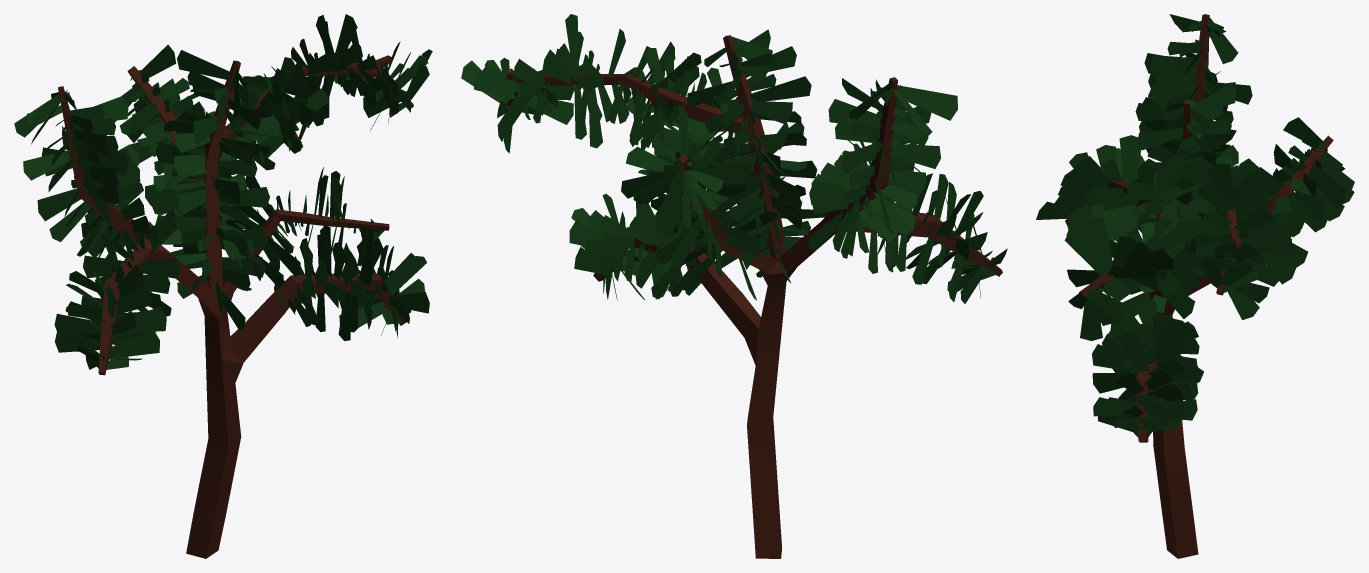
Rendered from Arbol1.fbx.
The picture shows the model from 3 angles, left to right: view 1: azimuth 30°, elevation 25°; view 2: azimuth 150°, elevation 25°; view 3: azimuth 270°, elevation 25°; orthographic projection. The views are drawn at different scales.
Parts seen in each view (by area): view 1: Arbol 1, Arbol 1|Hoja1|Dupli|317, Arbol 1|Hoja1|Dupli|11, Arbol 1|Hoja1|Dupli|300, Arbol 1|Hoja1|Dupli|397, Arbol 1|Hoja1|Dupli|448, Arbol 1|Hoja1|Dupli|292, Arbol 1|Hoja1|Dupli|484, Arbol 1|Hoja1|Dupli|254, Arbol 1|Hoja1|Dupli|396, Arbol 1|Hoja1|Dupli|499, Arbol 1|Hoja1|Dupli|192 (+13 smaller); view 2: Arbol 1, Arbol 1|Hoja1|Dupli|483, Arbol 1|Hoja1|Dupli|995, Arbol 1|Hoja1|Dupli|443, Arbol 1|Hoja1|Dupli|462, Arbol 1|Hoja1|Dupli|996, Arbol 1|Hoja1|Dupli|377, Arbol 1|Hoja1|Dupli|728; view 3: Arbol 1, Arbol 1|Hoja1|Dupli|812, Arbol 1|Hoja1|Dupli|573, Arbol 1|Hoja1|Dupli|558, Arbol 1|Hoja1|Dupli|739, Arbol 1|Hoja1|Dupli|814, Arbol 1|Hoja1|Dupli|216, Arbol 1|Hoja1|Dupli|900, Arbol 1|Hoja1|Dupli|11, Arbol 1|Hoja1|Dupli|556, Arbol 1|Hoja1|Dupli|897, Arbol 1|Hoja1|Dupli|243 (+42 smaller).
Part boxes in pixels (x1=…): Arbol 1: x1=58, y1=55, x2=413, y2=558; Arbol 1|Hoja1|Dupli|317: x1=108, y1=330, x2=159, y2=358; Arbol 1|Hoja1|Dupli|11: x1=177, y1=50, x2=230, y2=79; Arbol 1|Hoja1|Dupli|300: x1=54, y1=313, x2=101, y2=335; Arbol 1|Hoja1|Dupli|397: x1=37, y1=188, x2=80, y2=221; Arbol 1|Hoja1|Dupli|448: x1=23, y1=150, x2=70, y2=180; Arbol 1|Hoja1|Dupli|292: x1=114, y1=307, x2=166, y2=332; Arbol 1|Hoja1|Dupli|484: x1=14, y1=94, x2=64, y2=137; Arbol 1|Hoja1|Dupli|254: x1=116, y1=283, x2=150, y2=314; Arbol 1|Hoja1|Dupli|396: x1=49, y1=203, x2=90, y2=241; Arbol 1|Hoja1|Dupli|499: x1=235, y1=114, x2=279, y2=141; Arbol 1|Hoja1|Dupli|192: x1=141, y1=258, x2=180, y2=278; Arbol 1: x1=506, y1=35, x2=1002, y2=558; Arbol 1|Hoja1|Dupli|483: x1=893, y1=85, x2=957, y2=120; Arbol 1|Hoja1|Dupli|995: x1=749, y1=76, x2=811, y2=101; Arbol 1|Hoja1|Dupli|443: x1=889, y1=144, x2=940, y2=168; Arbol 1|Hoja1|Dupli|462: x1=828, y1=99, x2=881, y2=127; Arbol 1|Hoja1|Dupli|996: x1=751, y1=101, x2=792, y2=124; Arbol 1|Hoja1|Dupli|377: x1=809, y1=181, x2=850, y2=205; Arbol 1|Hoja1|Dupli|728: x1=625, y1=146, x2=672, y2=171; Arbol 1: x1=1065, y1=14, x2=1333, y2=558; Arbol 1|Hoja1|Dupli|812: x1=1082, y1=217, x2=1113, y2=270; Arbol 1|Hoja1|Dupli|573: x1=1238, y1=230, x2=1292, y2=258; Arbol 1|Hoja1|Dupli|558: x1=1231, y1=175, x2=1280, y2=215; Arbol 1|Hoja1|Dupli|739: x1=1309, y1=164, x2=1346, y2=208; Arbol 1|Hoja1|Dupli|814: x1=1064, y1=226, x2=1108, y2=275; Arbol 1|Hoja1|Dupli|216: x1=1119, y1=135, x2=1141, y2=183; Arbol 1|Hoja1|Dupli|900: x1=1118, y1=331, x2=1149, y2=372; Arbol 1|Hoja1|Dupli|11: x1=1190, y1=82, x2=1235, y2=116; Arbol 1|Hoja1|Dupli|556: x1=1207, y1=163, x2=1234, y2=205; Arbol 1|Hoja1|Dupli|897: x1=1092, y1=344, x2=1137, y2=372; Arbol 1|Hoja1|Dupli|243: x1=1073, y1=156, x2=1111, y2=187.
Size of what is drawn, in the model's own units: 947 by 1013 by 615.
